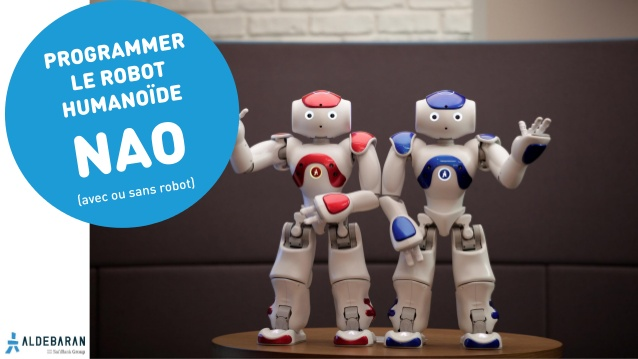nao: (378, 78, 558, 359), (211, 63, 381, 359)
